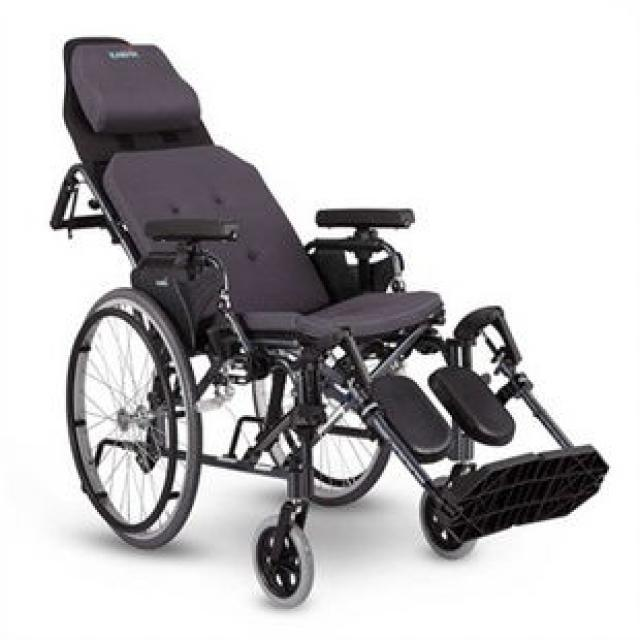wheelchair: (30, 21, 618, 596)
